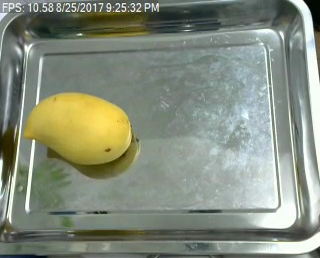Mango: (28, 91, 135, 165)
